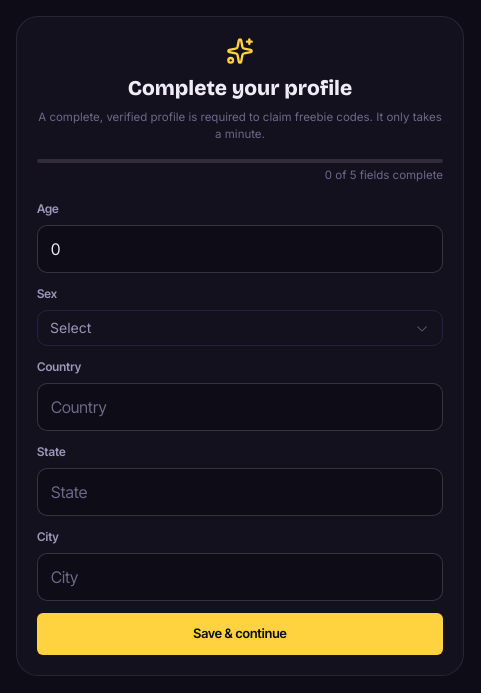
Test: ProfileCompletePage (viewer) › advances the progress prompt as fields are filled
In the number field with placeholder "Age": (240, 249) x1=37 y1=225 x2=443 y2=273, type "25"
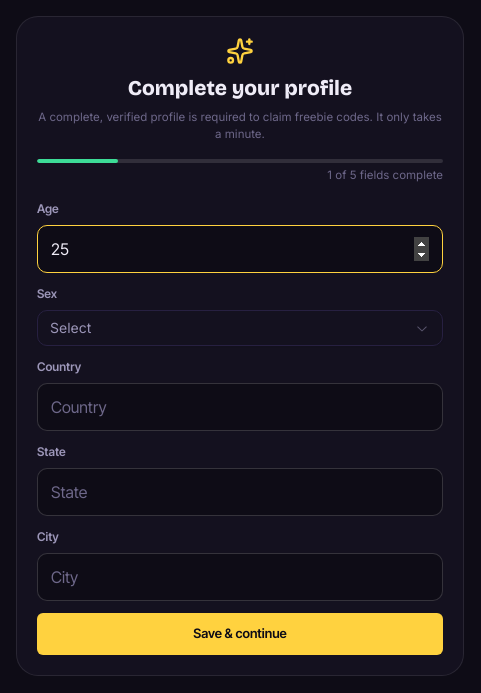
In the field with placeholder "Country": (240, 407) x1=37 y1=383 x2=443 y2=431, type "Nigeria"
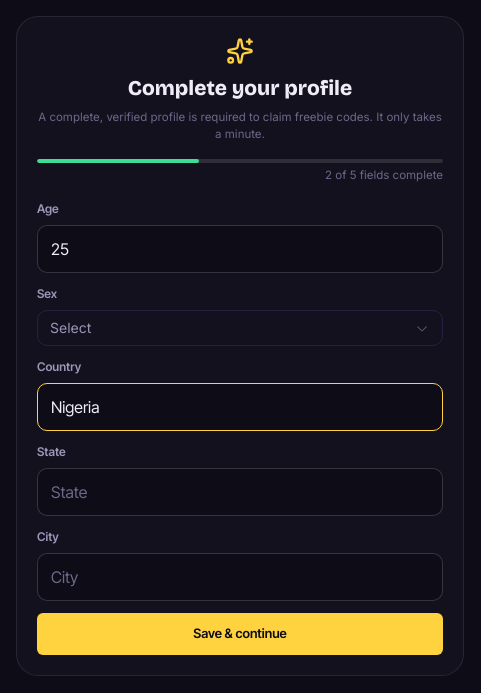
Expected: the text with test id "profile-progress-label" reads "2 of 5 fields complete", x1=325 y1=168 x2=443 y2=182
